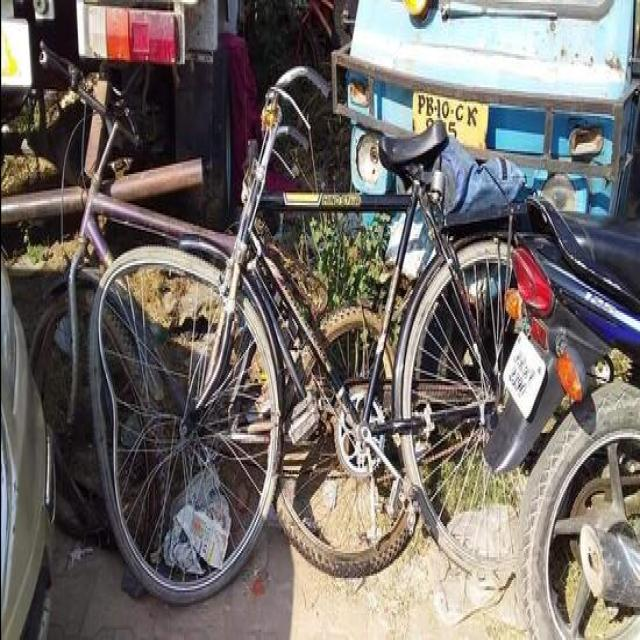accident: (81, 67, 523, 602)
